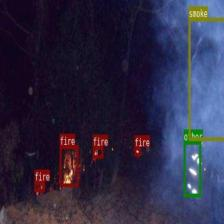fire: (60, 145, 78, 186), (92, 146, 103, 158), (34, 181, 45, 191), (134, 146, 140, 156)
smoke: (188, 17, 224, 140)
